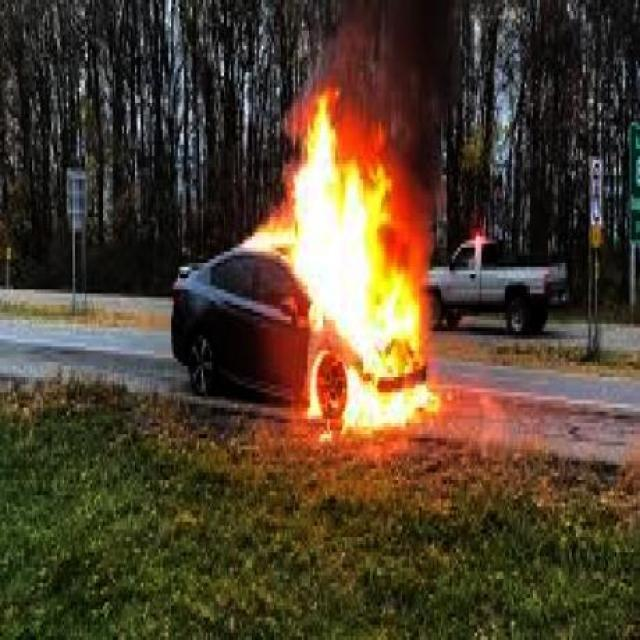Fire: (250, 90, 448, 426)
Smoke: (328, 5, 456, 130)
